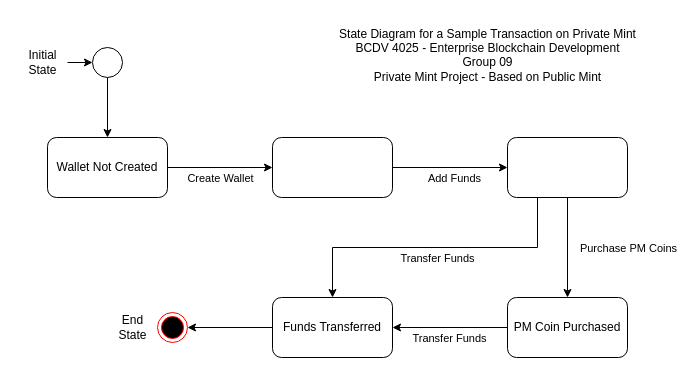
This 694x375 diagram has some shape labels left out. The shapes that lost their labels are listed below. From the top down, each one's centre as x and y in pixels, then its label:
the point at 332,167: Wallet Created
the point at 567,167: Funds Added (FakeUSD)
